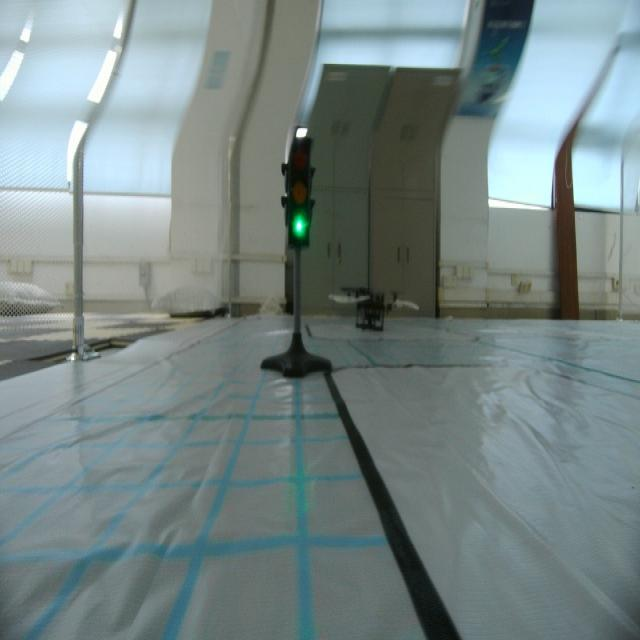green: (287, 134, 319, 248)
